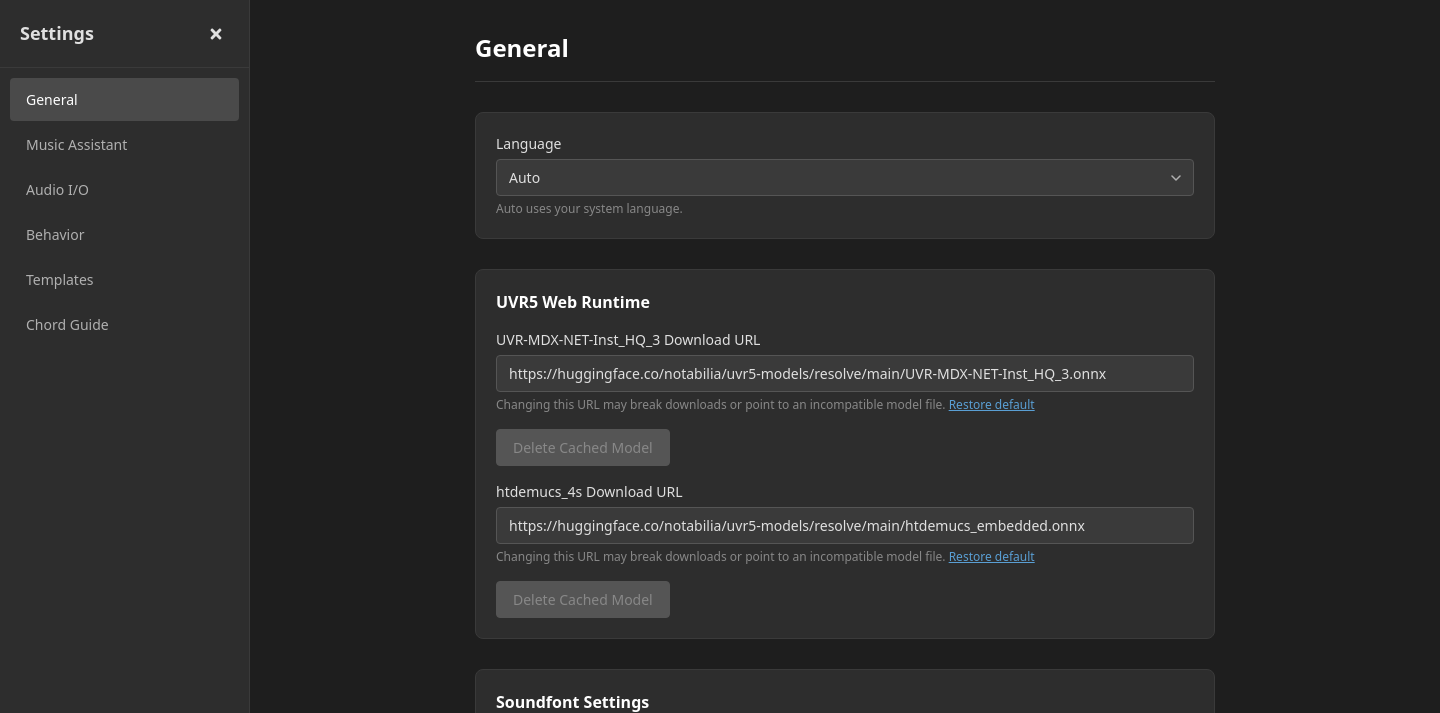
MusicAssistantSettings › resubscribes and shows current model download progress after switching tabs
The image size is (1440, 713).
Click the button "Music Assistant": (124, 144) [10,123,239,166]
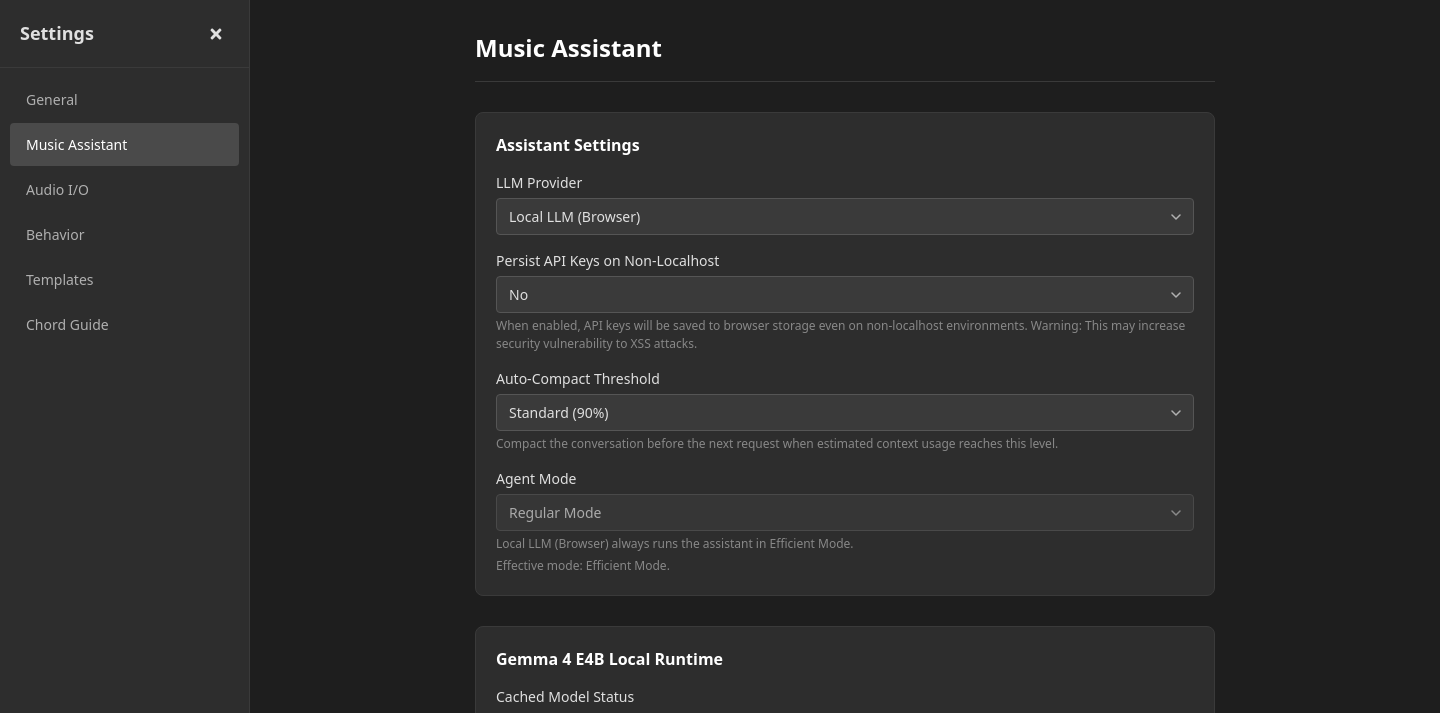
Click the button "General": (124, 100) [10,78,239,121]
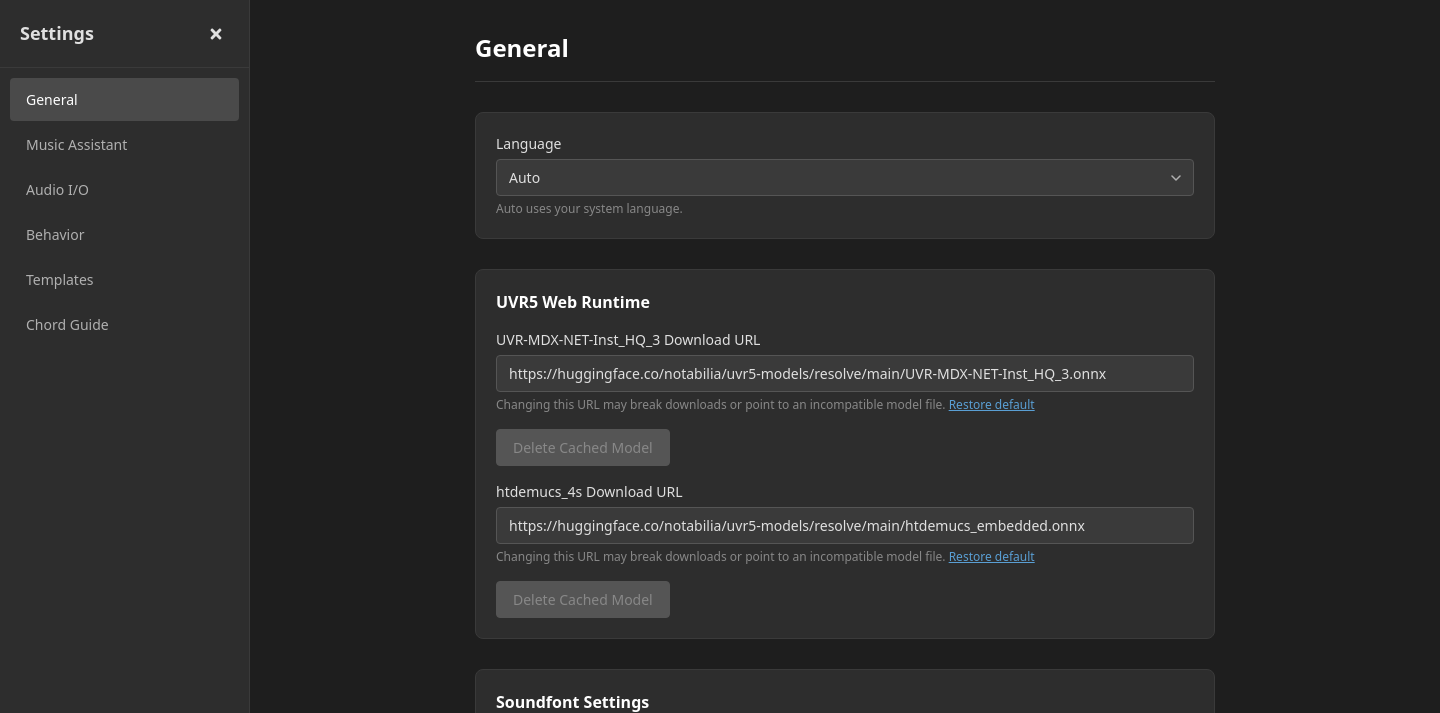
Click the button "Music Assistant": (124, 144) [10,123,239,166]
(page scrolled)
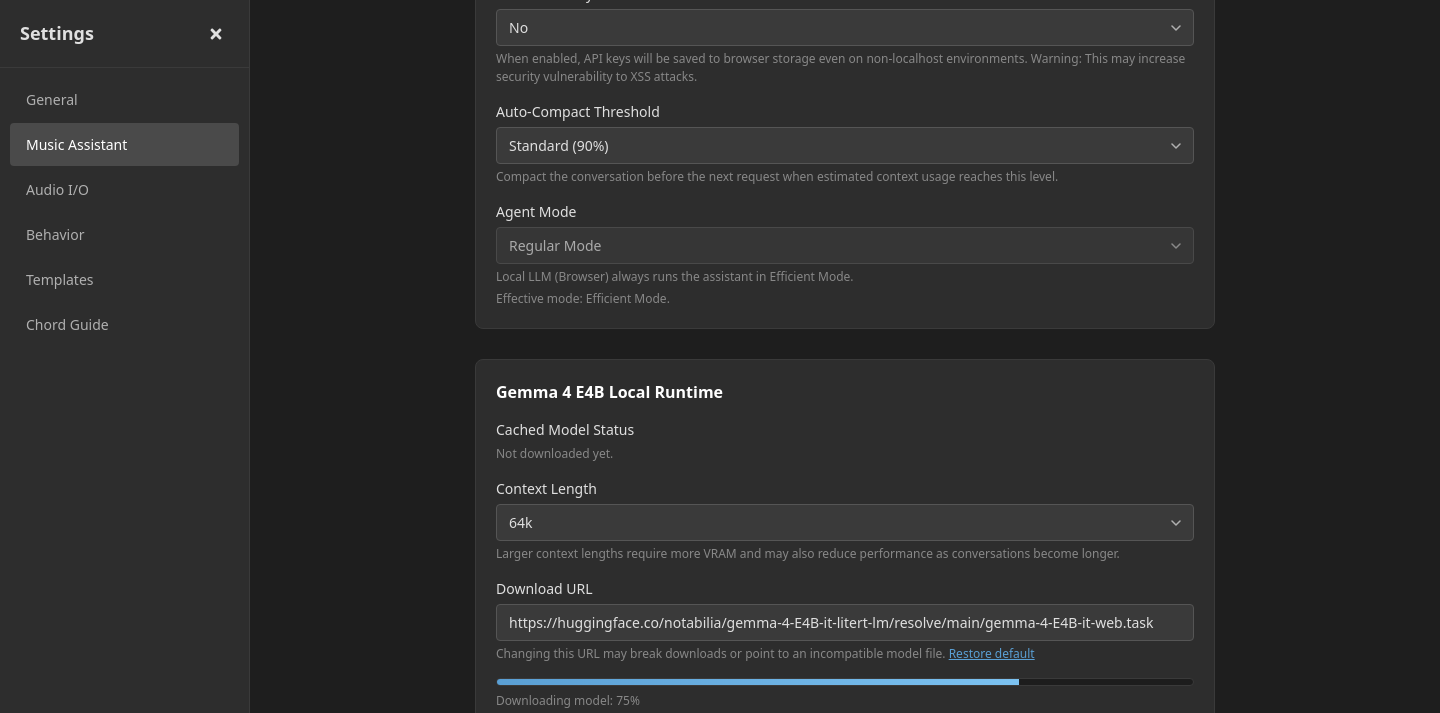
Expected: the text "Downloading model: 75%" is shown, [496,692,640,709]
